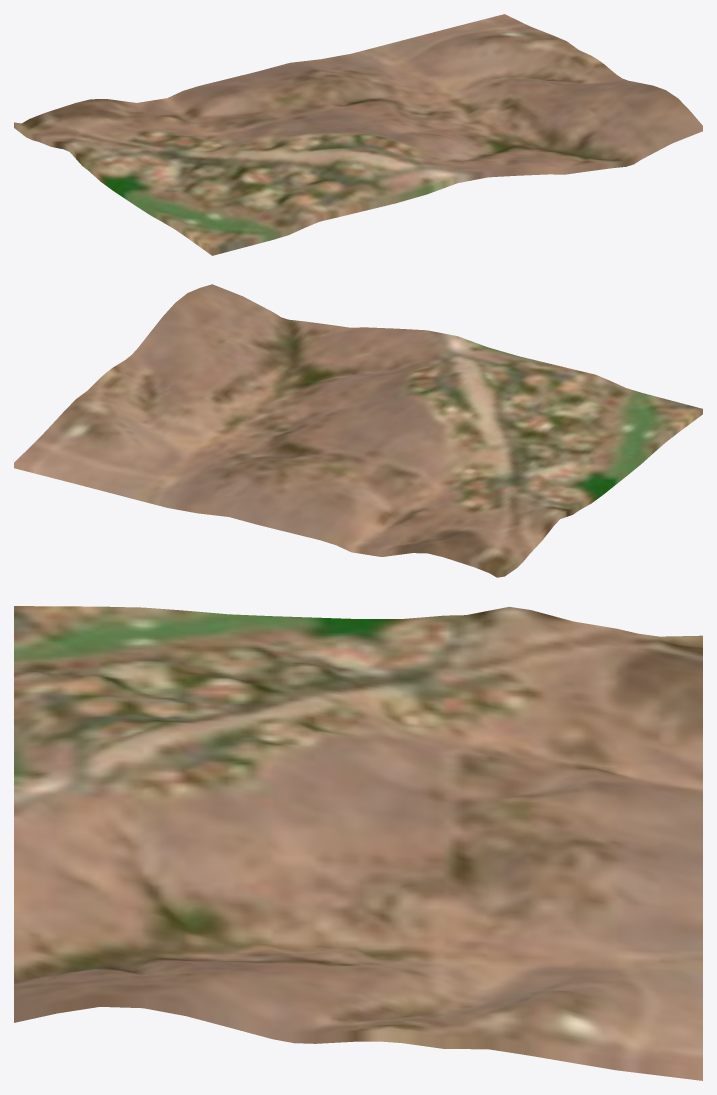
The model's file is terrain_r6_c2_lod2.glb.
3 renders of one model, top to bottom at view 1: azimuth 30°, elevation 25°; view 2: azimuth 150°, elevation 25°; view 3: azimuth 270°, elevation 25°, orthographic. The views are drawn at different scales.
Visible parts, largest first — view 1: terrain_r6_c2_lod2; view 2: terrain_r6_c2_lod2; view 3: terrain_r6_c2_lod2.
Boxes of the visible parts, left/top/right/bottom form: terrain_r6_c2_lod2: left=14, top=14, right=702, bottom=255; terrain_r6_c2_lod2: left=14, top=284, right=702, bottom=577; terrain_r6_c2_lod2: left=14, top=606, right=702, bottom=1080.
Bounding box in the file's own units: 1125 × 117 × 787.
Materials: 1 (1 with a texture image).
